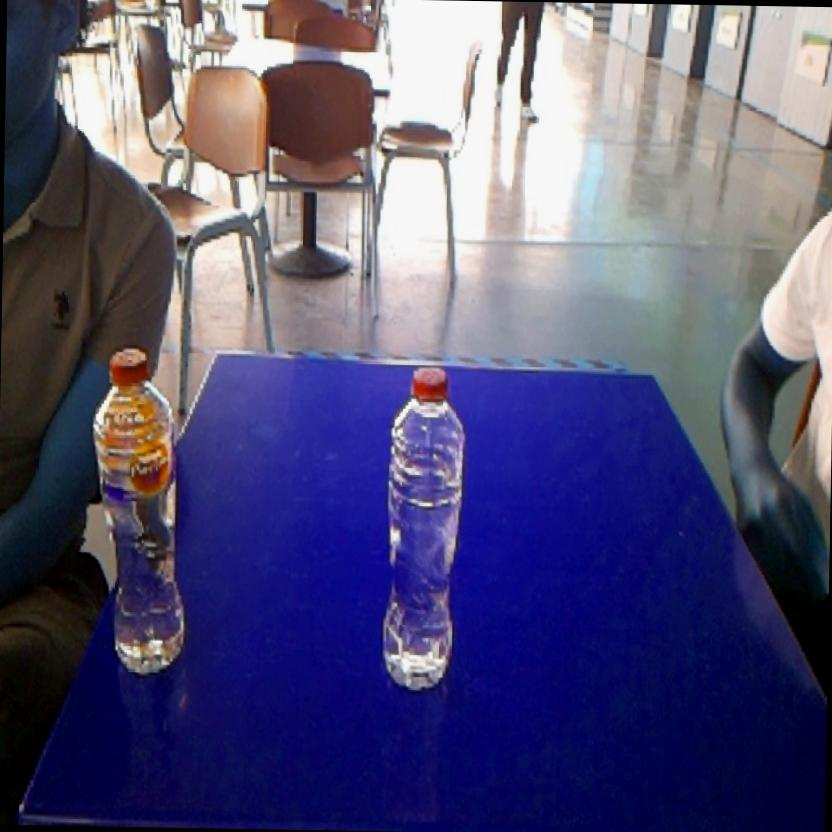no_label: (370, 360, 472, 700)
